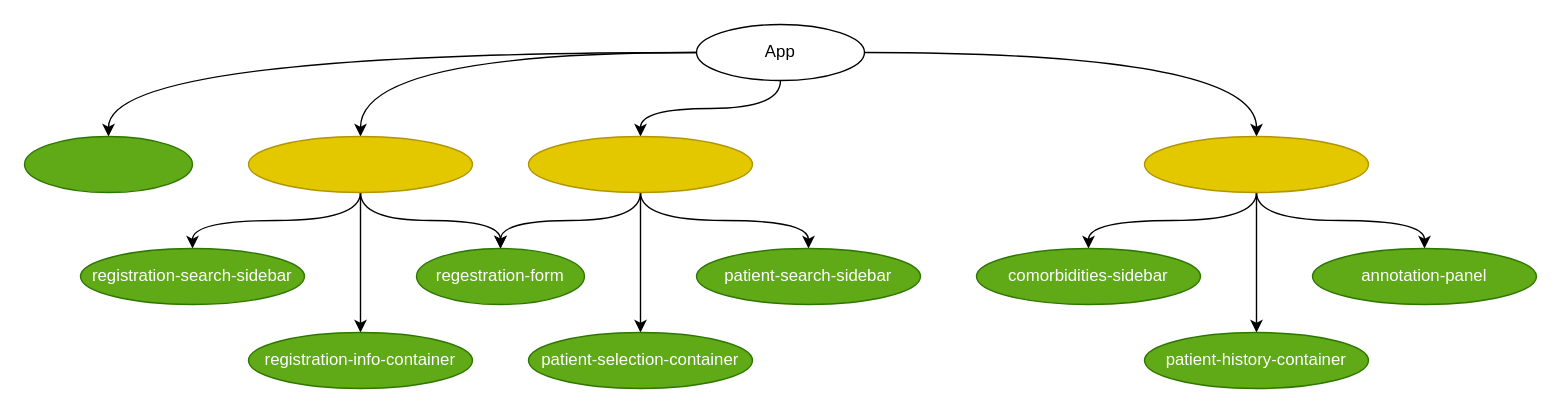
Some shapes in this 1561 by 413 pixel diagram are drawn without their labels. The centre of each missing label's shape, as x and y in pixels:
"check-registration-page" belongs at pixel 1255 163.
"patient-selection-page" belongs at pixel 639 163.
"registration-selection-page" belongs at pixel 359 163.
"step-container" belongs at pixel 107 163.
